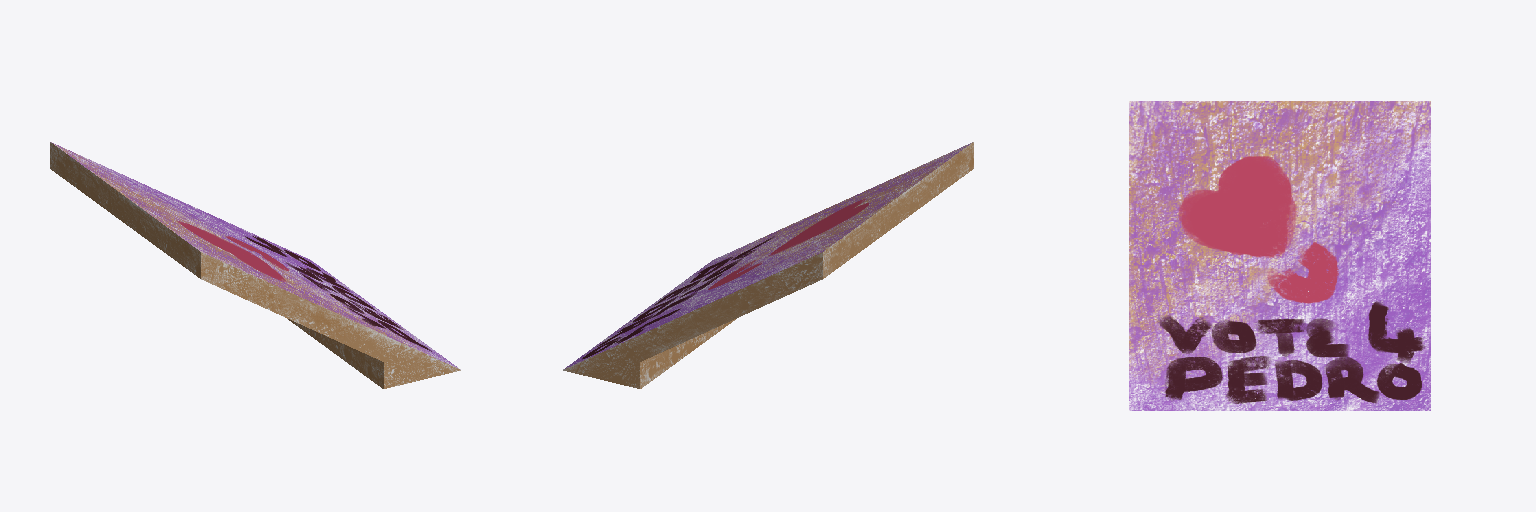
3 views of the same model, side by side, from view 1: azimuth 30°, elevation 25°; view 2: azimuth 150°, elevation 25°; view 3: azimuth 270°, elevation 25° (orthographic).
Visible parts, largest first — view 1: shapr3d_export_2022-08-06_22h45m_Default_OBJ; view 2: shapr3d_export_2022-08-06_22h45m_Default_OBJ; view 3: shapr3d_export_2022-08-06_22h45m_Default_OBJ.
Boxes of the visible parts, x1=… form: shapr3d_export_2022-08-06_22h45m_Default_OBJ: x1=50, y1=142, x2=460, y2=388; shapr3d_export_2022-08-06_22h45m_Default_OBJ: x1=563, y1=142, x2=973, y2=388; shapr3d_export_2022-08-06_22h45m_Default_OBJ: x1=1129, y1=101, x2=1430, y2=410.
Size of the model in its own units: 30 by 20 by 30.
1 materials, 1 textured.